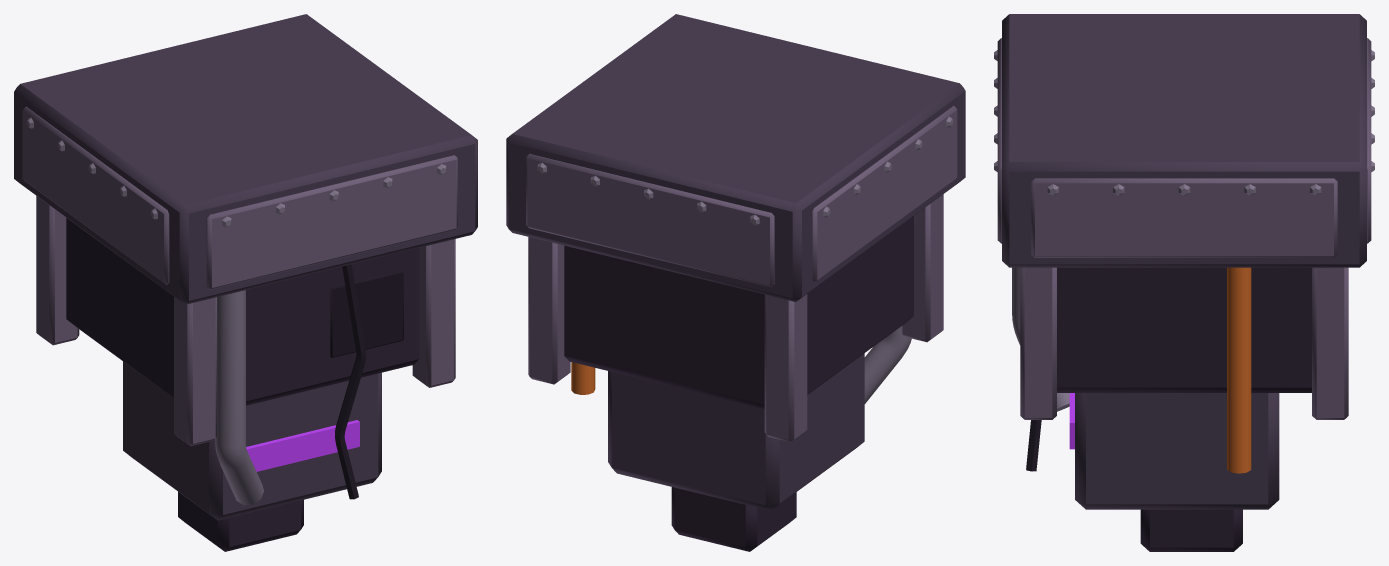
The model's file is cliff_skirt__lower.glb.
The picture shows the model from 3 angles, left to right: view 1: azimuth 30°, elevation 25°; view 2: azimuth 150°, elevation 25°; view 3: azimuth 270°, elevation 25°; orthographic projection. The views are drawn at different scales.
Visible parts, largest first — view 1: cliff_skirt; view 2: cliff_skirt; view 3: cliff_skirt.
Part boxes in pixels (<box>): cliff_skirt: <box>14,14,477,551</box>; cliff_skirt: <box>506,14,965,551</box>; cliff_skirt: <box>994,14,1374,551</box>.
Size of the model in its own units: 1.04 by 1.35 by 1.04.
